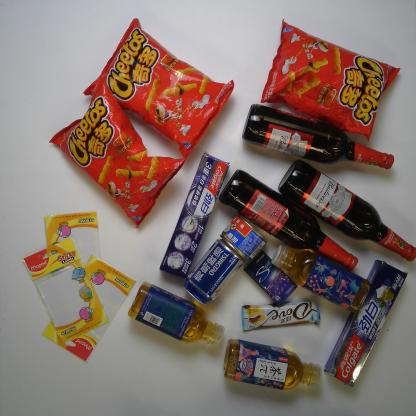Alcohol: (269, 160, 416, 265), (210, 169, 359, 272), (238, 104, 397, 172), (182, 236, 244, 307)
Canned Food: (213, 212, 267, 269)
Chocolate: (238, 300, 320, 333)
Drink: (266, 242, 374, 314), (125, 279, 229, 353), (219, 338, 323, 396)
Gum: (243, 248, 300, 311)
Personal Hygiene: (324, 259, 410, 387), (159, 152, 231, 286)
Puffed Food: (82, 16, 238, 167), (48, 77, 189, 231), (259, 17, 402, 146)
Stationery: (41, 252, 138, 364), (19, 235, 112, 343), (42, 210, 104, 278)
